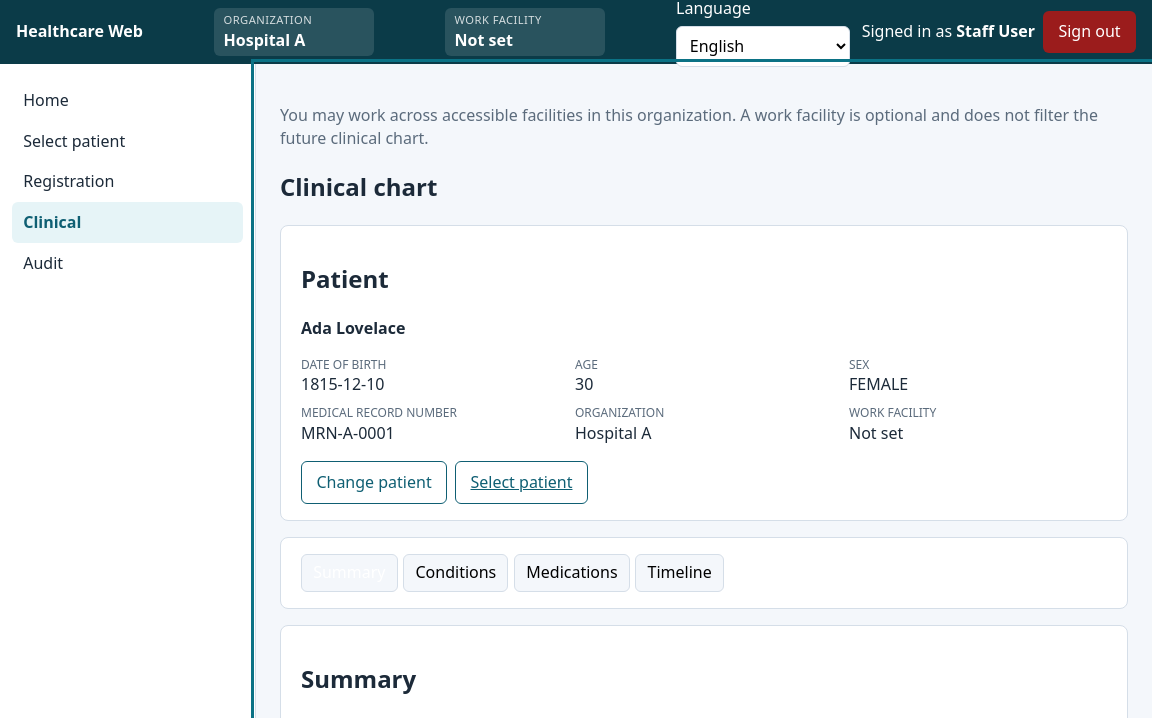
Test: clinical chart authorization and empty states › renders authorized empty distinctly from unauthorized
Step 1. Click the button "Conditions" → (456, 573), box [403,554,508,592]
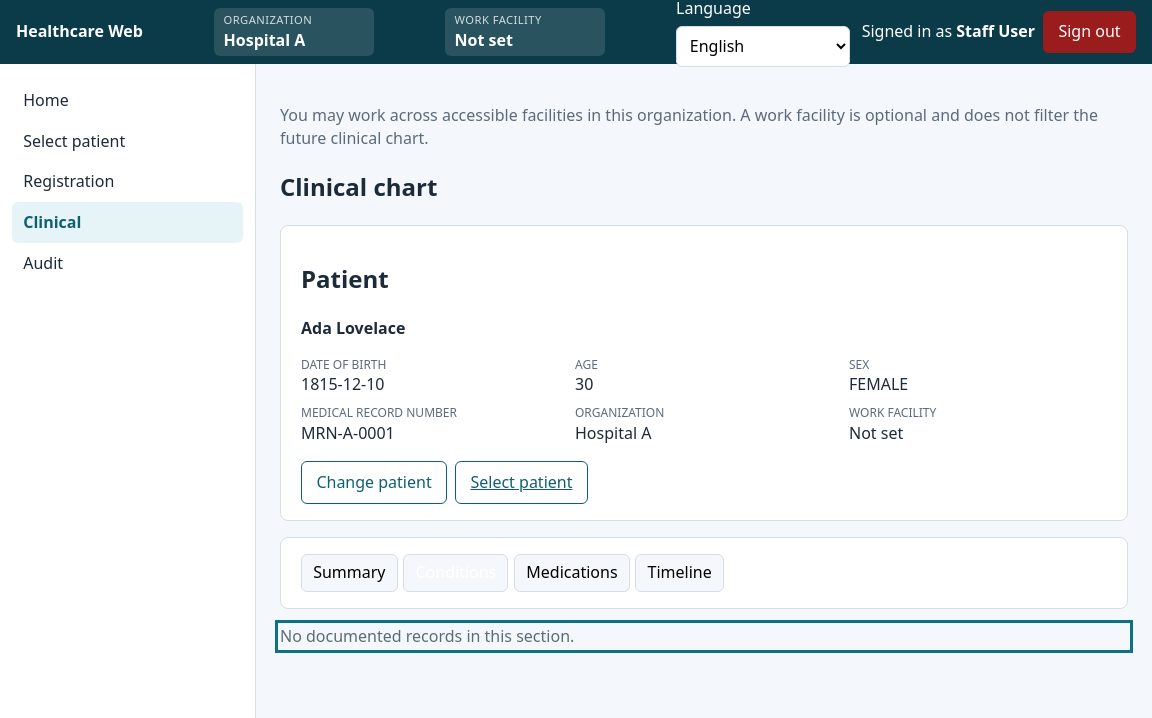
Now the text "No documented records in this section." is shown, box [280,625,574,647]
